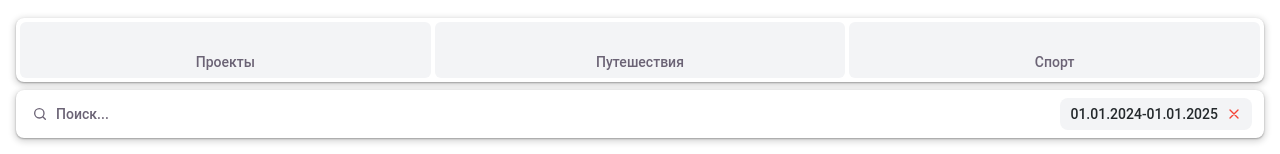
CardsMobile/Index › shows and clears the selected date range in the inline search field
Click the button "01.01.2024-01.01.2025" at (1156, 114), box [1060,98,1252,130]
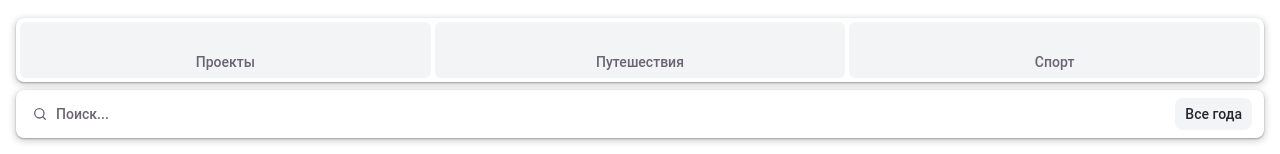
Result: the text "Все года" is shown at [1185,104,1242,124]
